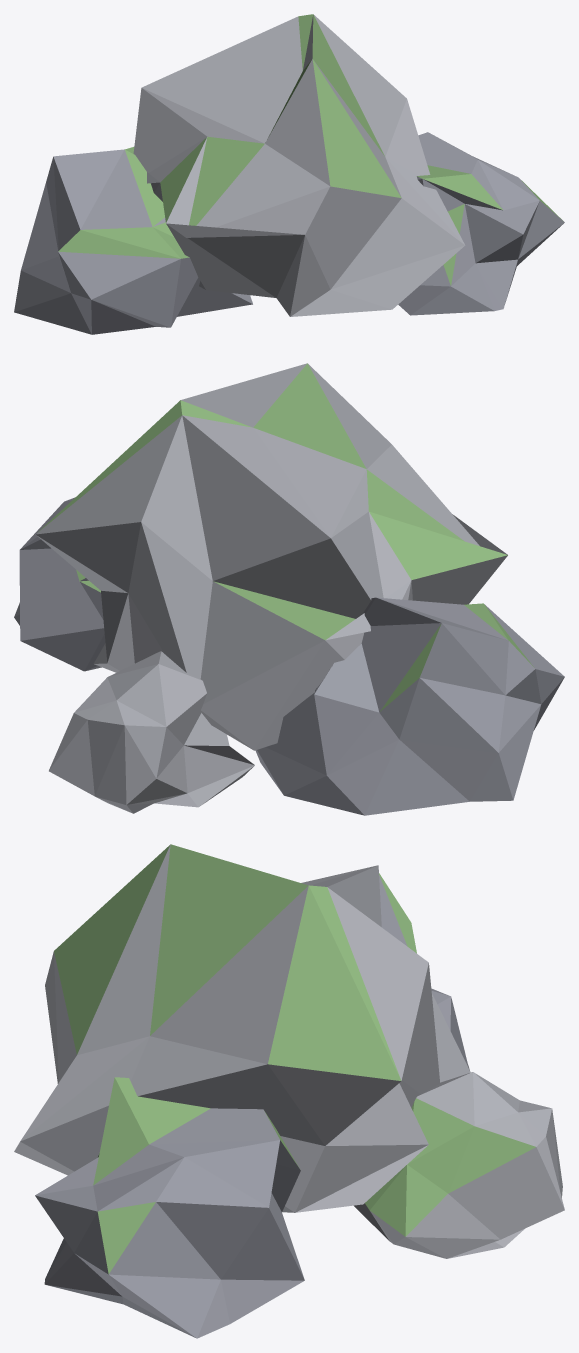
Rendered from rock.glb.
3 views of the same model, one above another, from view 1: azimuth 30°, elevation 25°; view 2: azimuth 150°, elevation 25°; view 3: azimuth 270°, elevation 25° (orthographic). The views are drawn at different scales.
Parts seen in each view (by area): view 1: Boulder_Main, Boulder_L, Boulder_R; view 2: Boulder_Main, Boulder_L, Boulder_F, Boulder_R; view 3: Boulder_Main, Boulder_R, Boulder_F, Boulder_L.
Boxes of the visible parts, x1,y1,x2,y2 form: Boulder_Main: (125,14,465,316); Boulder_L: (14,149,252,334); Boulder_R: (398,132,564,315); Boulder_Main: (35,363,507,750); Boulder_L: (255,597,564,815); Boulder_F: (49,651,254,813); Boulder_R: (14,497,105,671); Boulder_Main: (14,844,470,1212); Boulder_R: (35,1077,304,1338); Boulder_F: (354,1072,564,1258); Boulder_L: (379,873,469,1070).
Size of the model in its own units: 2.05 by 1.12 by 1.55.
